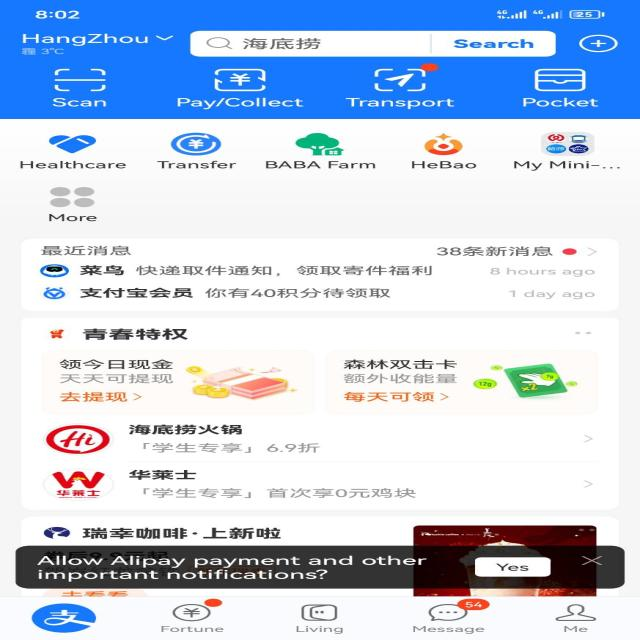Icon: (39, 62, 119, 96), (194, 67, 288, 95), (362, 66, 444, 96), (36, 128, 114, 158), (521, 68, 600, 96), (167, 130, 240, 158), (287, 130, 352, 158), (531, 131, 598, 158), (156, 601, 222, 625), (414, 132, 469, 158), (417, 602, 476, 626), (294, 602, 350, 624), (552, 603, 606, 623), (578, 32, 626, 54)
SearchBar: (182, 28, 564, 61)
